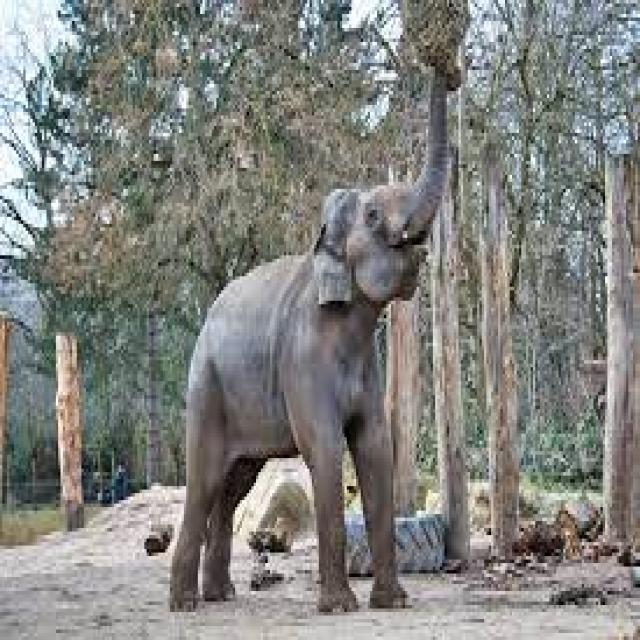Elephant: (168, 52, 458, 612)
